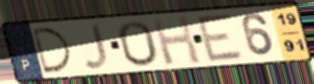6: (240, 12, 276, 58)
D: (30, 26, 75, 75)
E: (194, 11, 247, 64)
H: (149, 14, 204, 67)
J: (81, 21, 110, 71)
O: (116, 19, 161, 68)
